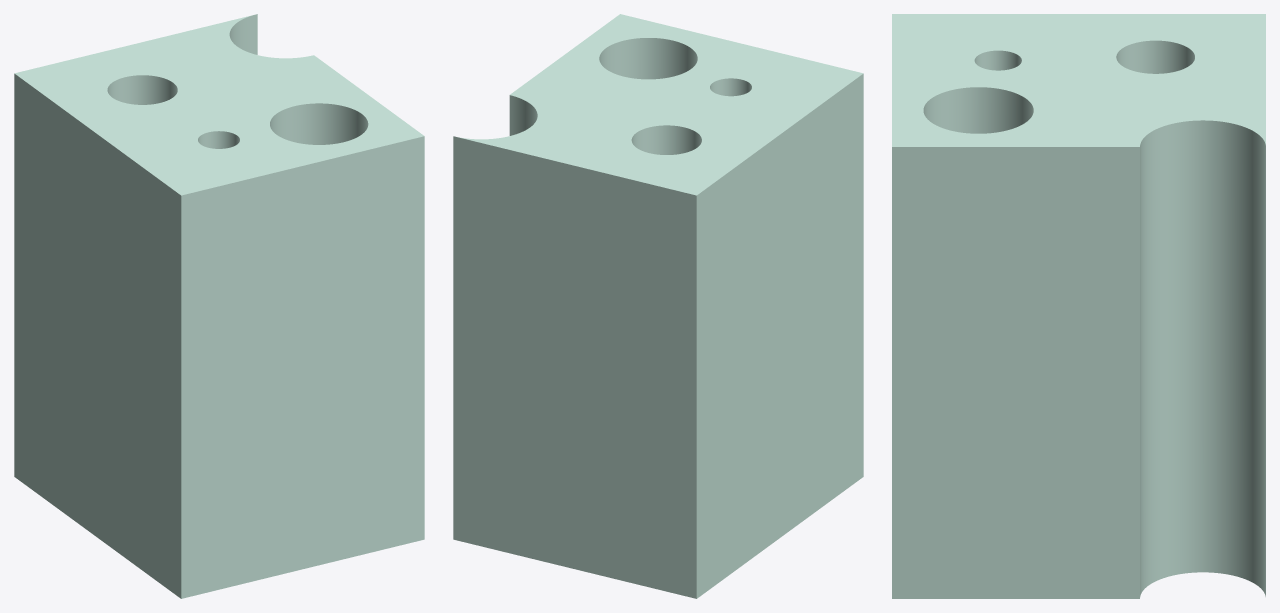
The picture shows the model from 3 angles, left to right: view 1: azimuth 30°, elevation 25°; view 2: azimuth 150°, elevation 25°; view 3: azimuth 270°, elevation 25°; orthographic projection. The views are drawn at different scales.
Visible parts, largest first — view 1: Renderer Node; view 2: Renderer Node; view 3: Renderer Node.
Boxes of the visible parts, bbox=[...] form: Renderer Node: bbox=[14, 14, 424, 598]; Renderer Node: bbox=[453, 14, 863, 598]; Renderer Node: bbox=[892, 14, 1265, 598].
Size of the model in its own units: 0.4737 by 0.75 by 0.5625.
